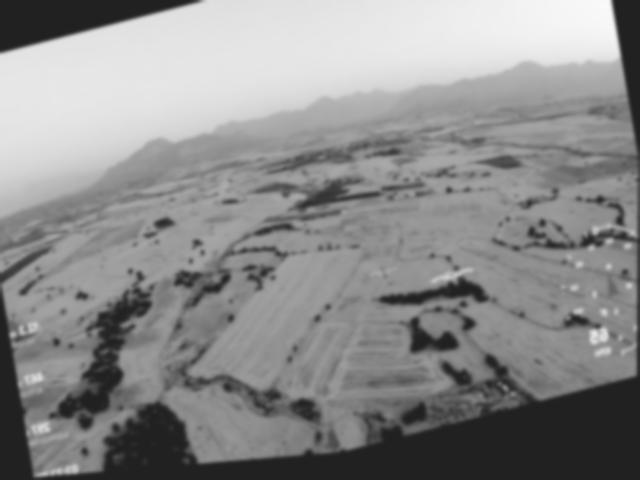hedef: (427, 265, 478, 303)
